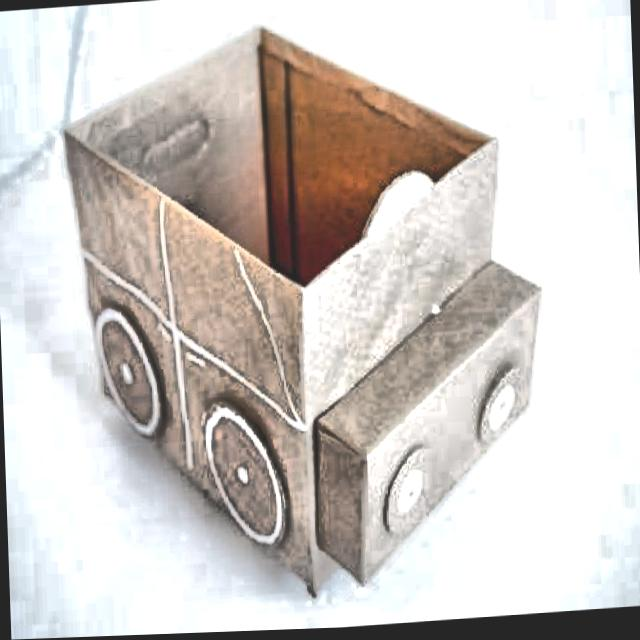Cardbox: (31, 3, 569, 627)
